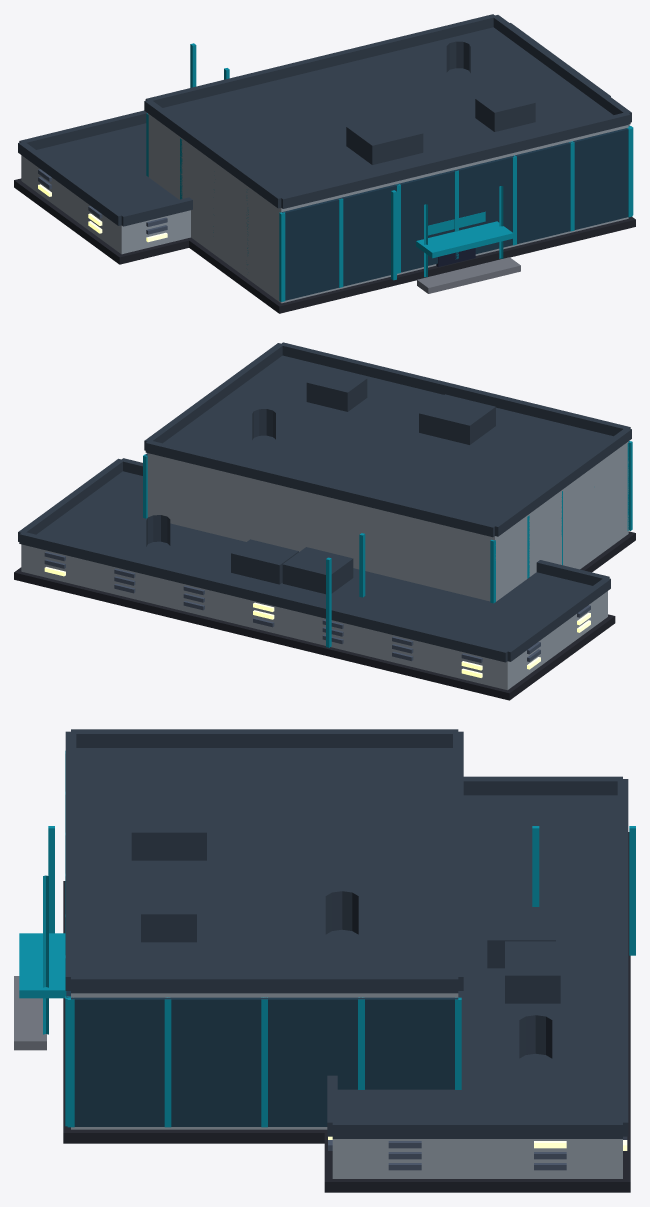
File: innovation-high.glb
The picture shows the model from 3 angles, top to bottom: view 1: azimuth 30°, elevation 25°; view 2: azimuth 150°, elevation 25°; view 3: azimuth 270°, elevation 25°; orthographic projection. The views are drawn at different scales.
Bounding box in the file's own units: 85.6 × 21.4 × 64.25.
